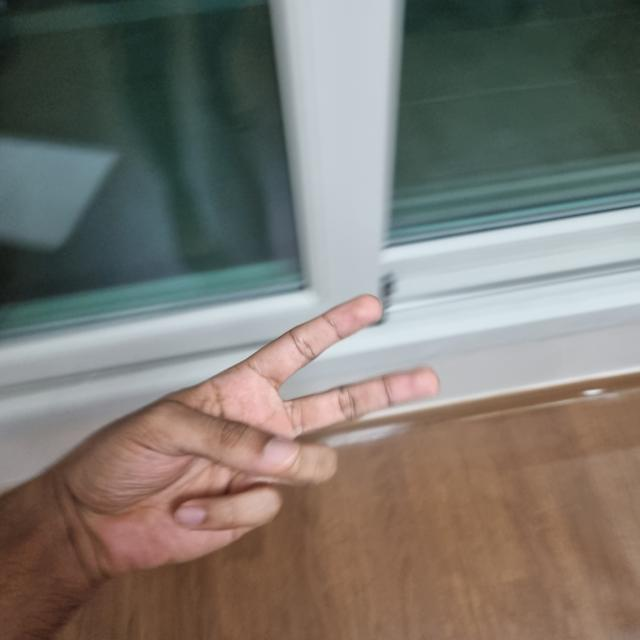Scissors: (63, 301, 423, 565)
